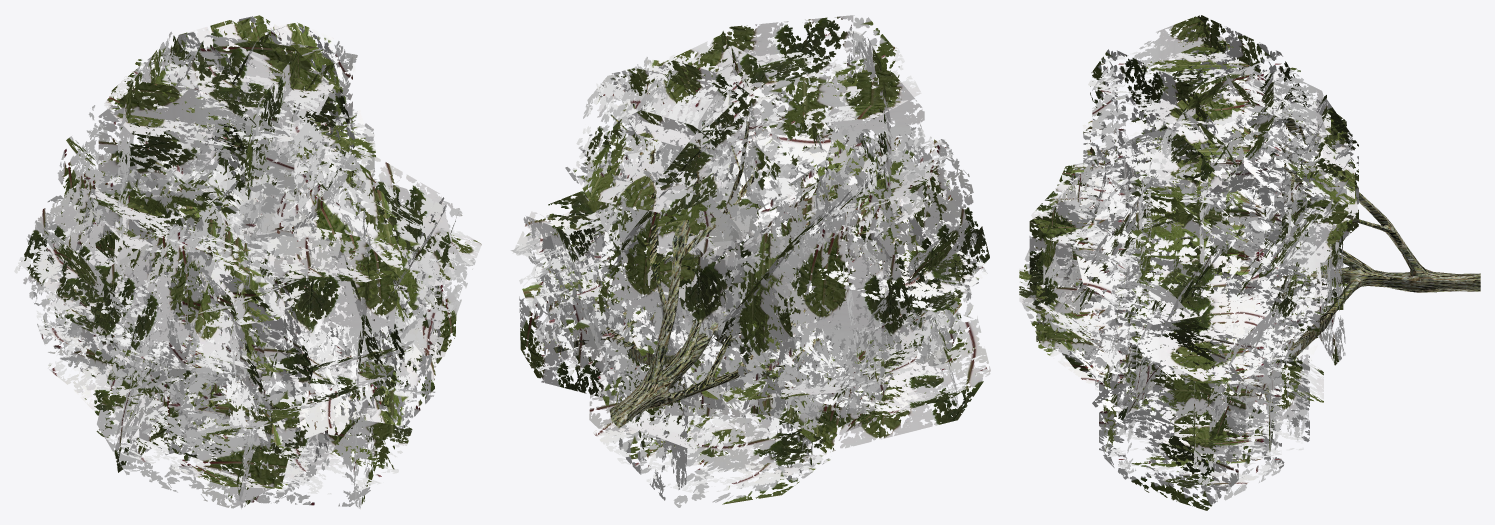
File: tree_cluster_13.obj
The picture shows the model from 3 angles, left to right: view 1: azimuth 30°, elevation 25°; view 2: azimuth 150°, elevation 25°; view 3: azimuth 270°, elevation 25°; orthographic projection. The views are drawn at different scales.
Visible parts, largest first — view 1: object2; view 2: object2, object1; view 3: object2, object1.
Boxes of the visible parts, x1,y1,x2,y2 form: object2: (14, 15, 481, 508); object2: (510, 15, 990, 507); object1: (553, 103, 866, 428); object2: (1019, 15, 1358, 510); object1: (1209, 97, 1480, 412).
Bounding box in the file's own units: 5.66 × 5.55 × 5.9.
